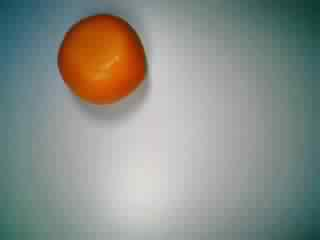orange: (53, 11, 151, 110)
